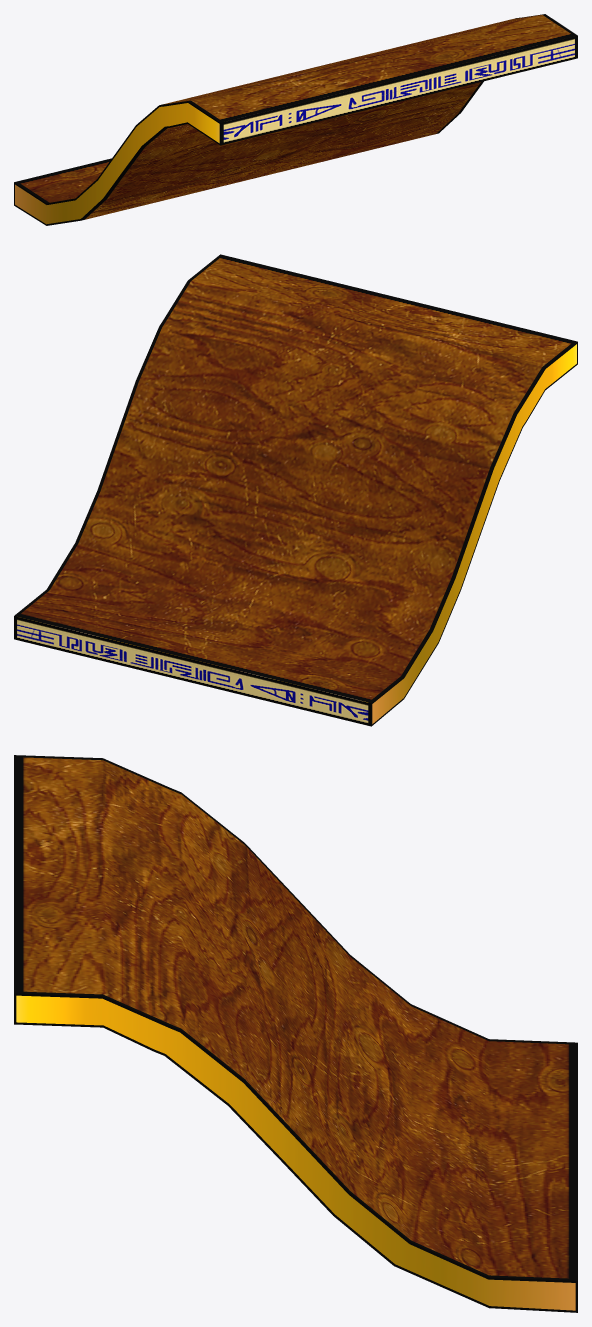
File: jungle_slope3.gltf
3 renders of one model, top to bottom at view 1: azimuth 30°, elevation 25°; view 2: azimuth 150°, elevation 25°; view 3: azimuth 270°, elevation 25°, orthographic. The views are drawn at different scales.
Parts seen in each view (by area): view 1: jungle_slope3_glb; view 2: jungle_slope3_glb; view 3: jungle_slope3_glb.
Part boxes in pixels (<box>): jungle_slope3_glb: <box>14,14,577,225</box>; jungle_slope3_glb: <box>14,254,577,726</box>; jungle_slope3_glb: <box>14,755,577,1312</box>.
Size of what is drawn, in the model's own units: 4 by 2.5 by 4.
Materials: 1 (1 with a texture image).
